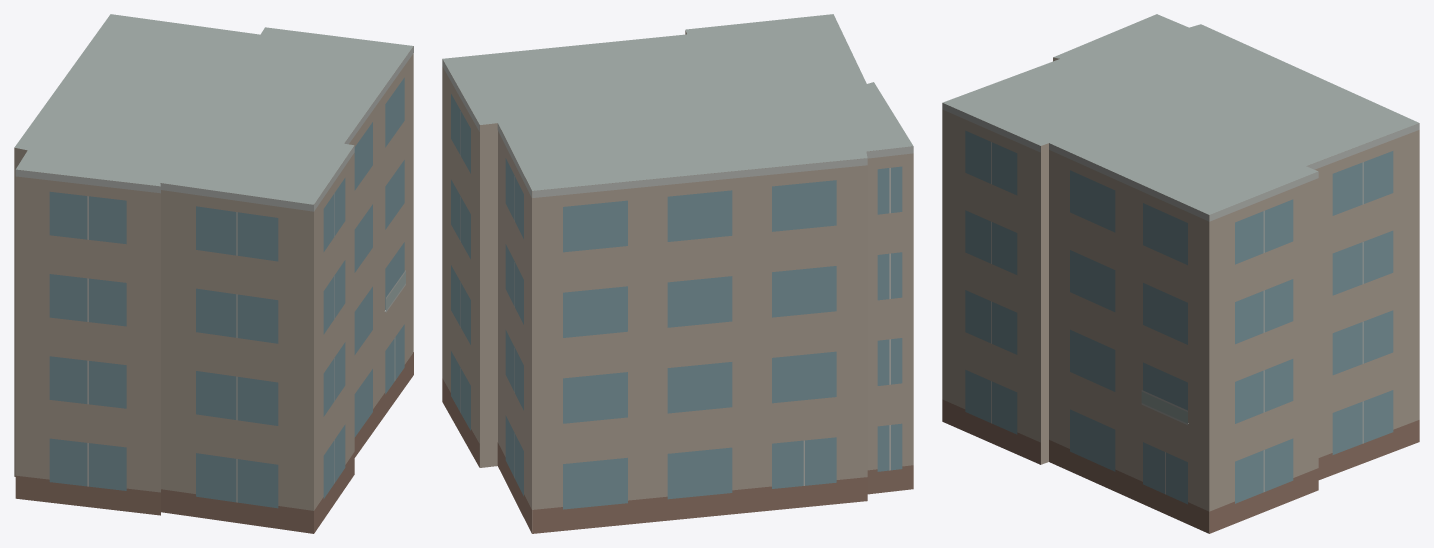
Rendered from survey-upis-32586698.glb.
3 renders of one model, left to right at view 1: azimuth 30°, elevation 25°; view 2: azimuth 150°, elevation 25°; view 3: azimuth 270°, elevation 25°, orthographic. The views are drawn at different scales.
Parts seen in each view (by area): view 1: survey-upis-32586698.tmp; view 2: survey-upis-32586698.tmp; view 3: survey-upis-32586698.tmp.
Boxes of the visible parts, <box> form: survey-upis-32586698.tmp: <box>14,14,413,533</box>; survey-upis-32586698.tmp: <box>442,14,913,533</box>; survey-upis-32586698.tmp: <box>942,14,1419,533</box>.
Bounding box in the file's own units: 15.69 × 11.6 × 15.74.
